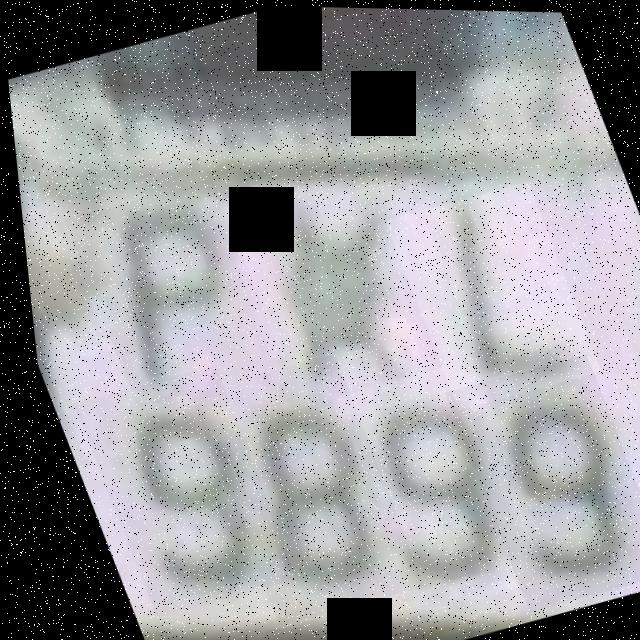8: (177, 350, 415, 627)
9: (304, 354, 548, 620), (61, 362, 289, 618), (432, 349, 640, 612)
J: (377, 176, 597, 410)
P: (55, 174, 282, 410)
